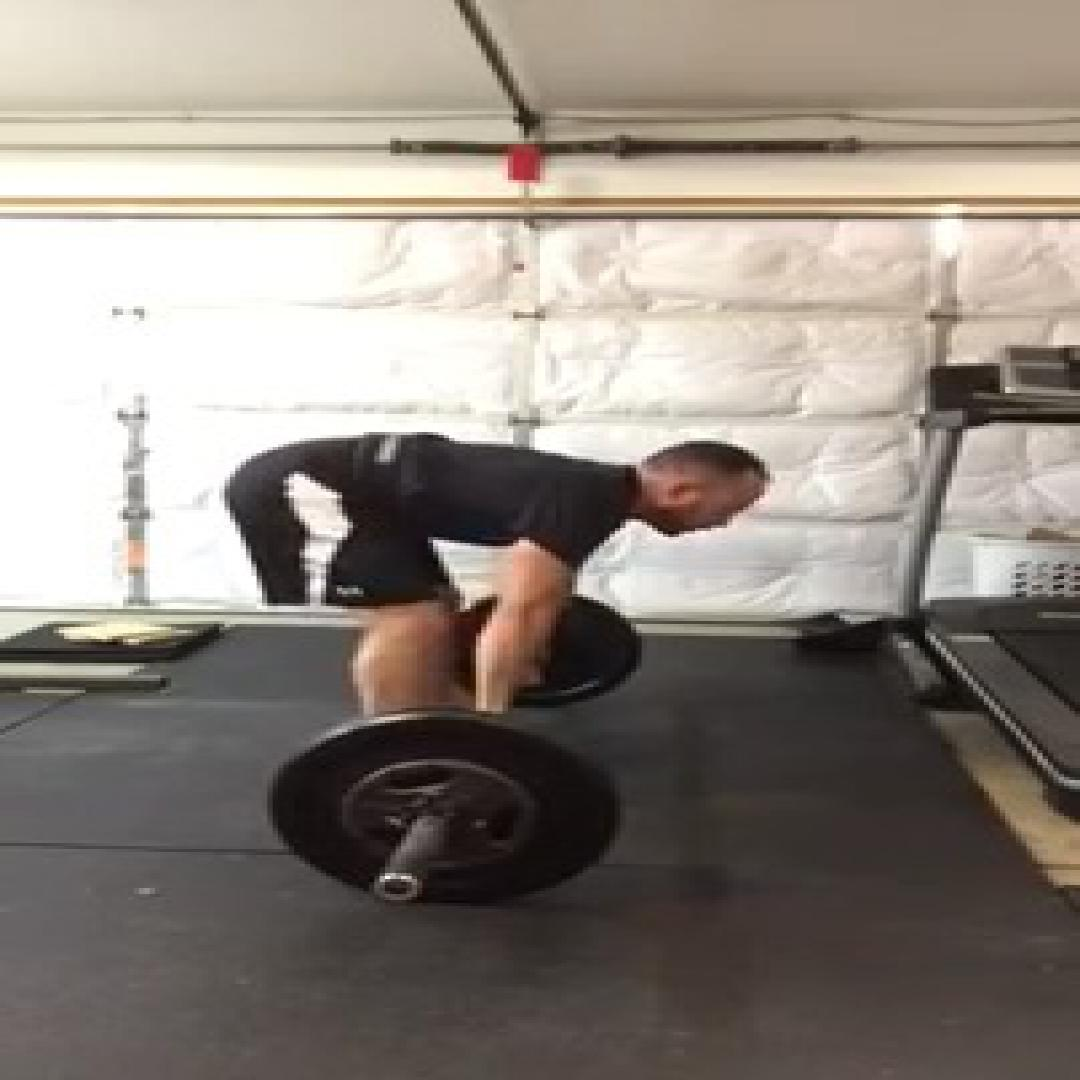Bar: (369, 870, 428, 903)
Barbell: (267, 717, 615, 903)
